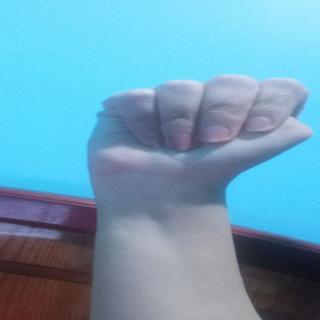SAD: (79, 72, 320, 210)
